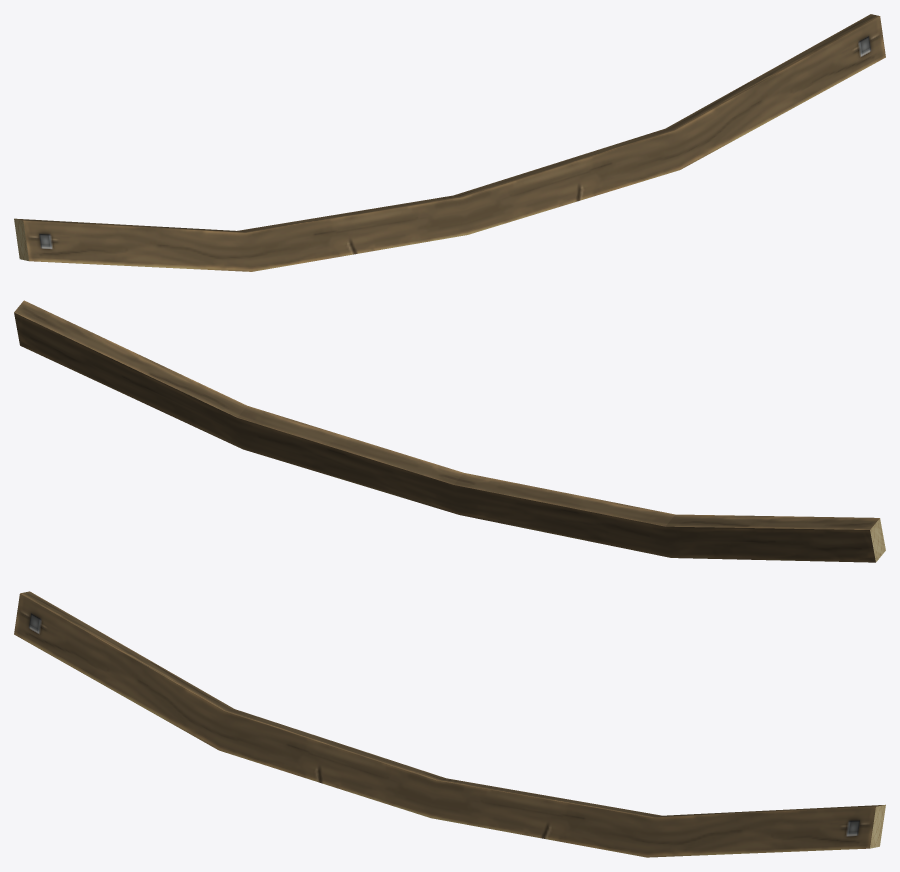
3 renders of one model, top to bottom at view 1: azimuth 30°, elevation 25°; view 2: azimuth 150°, elevation 25°; view 3: azimuth 330°, elevation 25°, orthographic.
Visible parts, largest first — view 1: part_13b:Mesh; view 2: part_13b:Mesh; view 3: part_13b:Mesh.
Boxes of the visible parts, x1,y1,x2,y2 form: part_13b:Mesh: (14,14,885,271); part_13b:Mesh: (14,300,885,562); part_13b:Mesh: (14,591,885,857).
Size of the model in its own units: 6.98 by 0.8657 by 0.4194.
